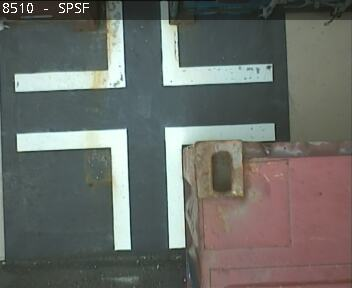groundmarker_1: (16, 120, 271, 250), (14, 1, 272, 93)
